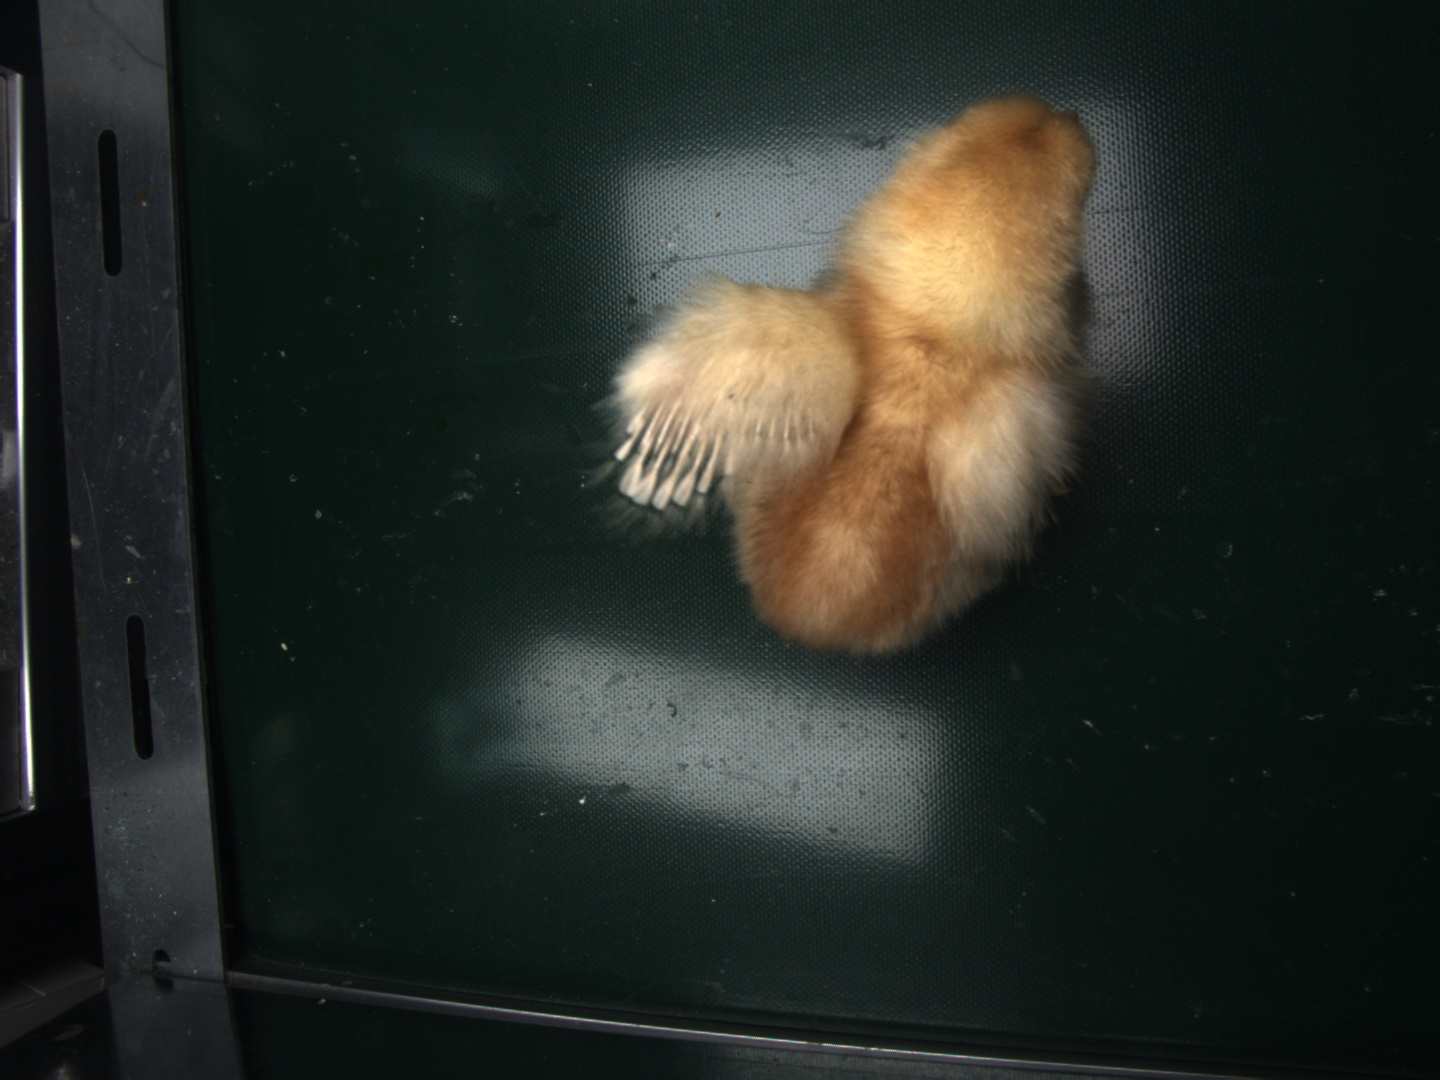female: (615, 403, 729, 503)
